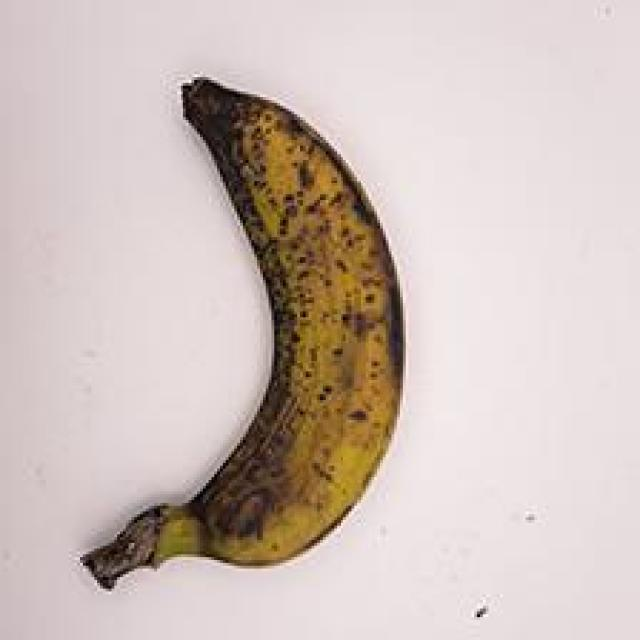Overripe: (74, 58, 409, 602)
